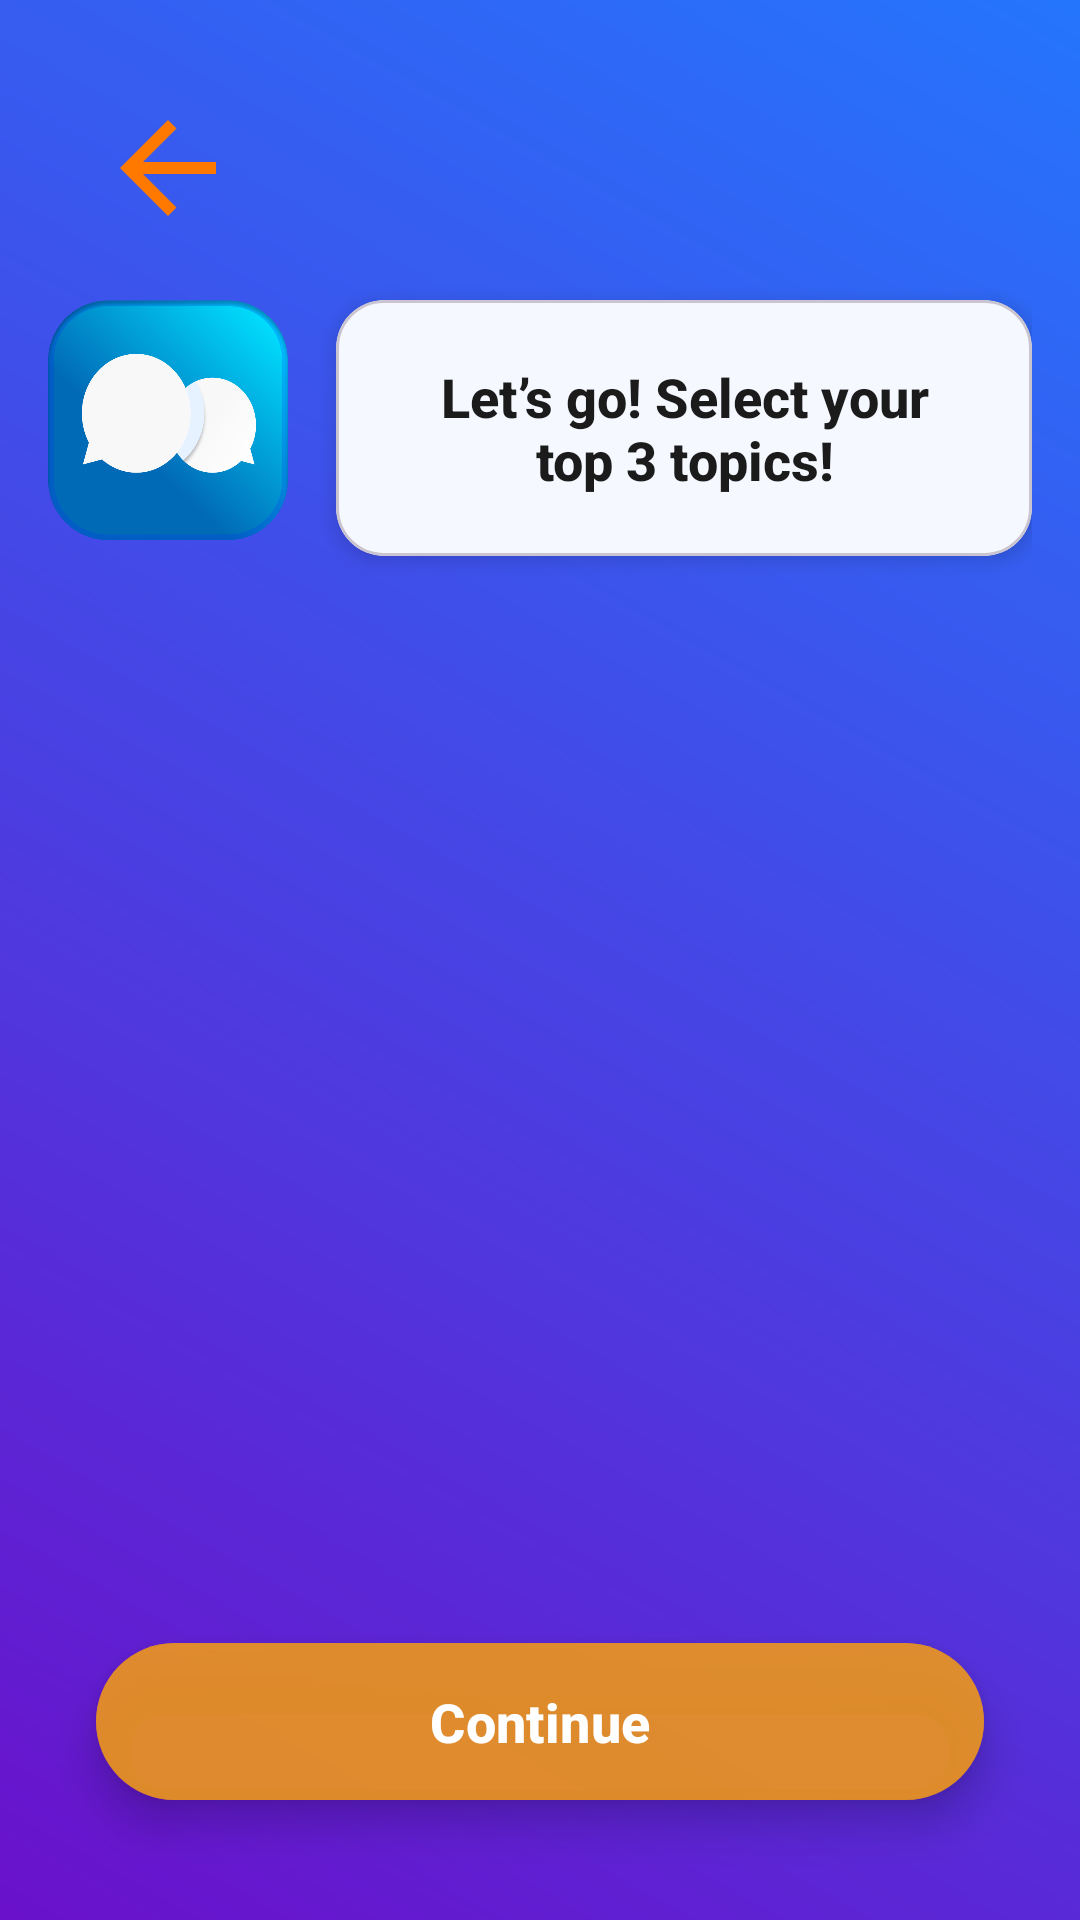

Where icons sit on this 1080*1920 app screen, as (x1, y1, x2, y2):
Back Icon: (120, 120, 216, 216)
